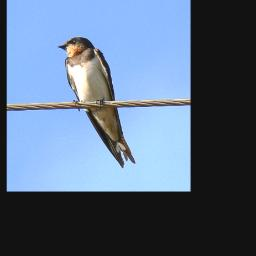Swallow: (56, 36, 136, 168)
